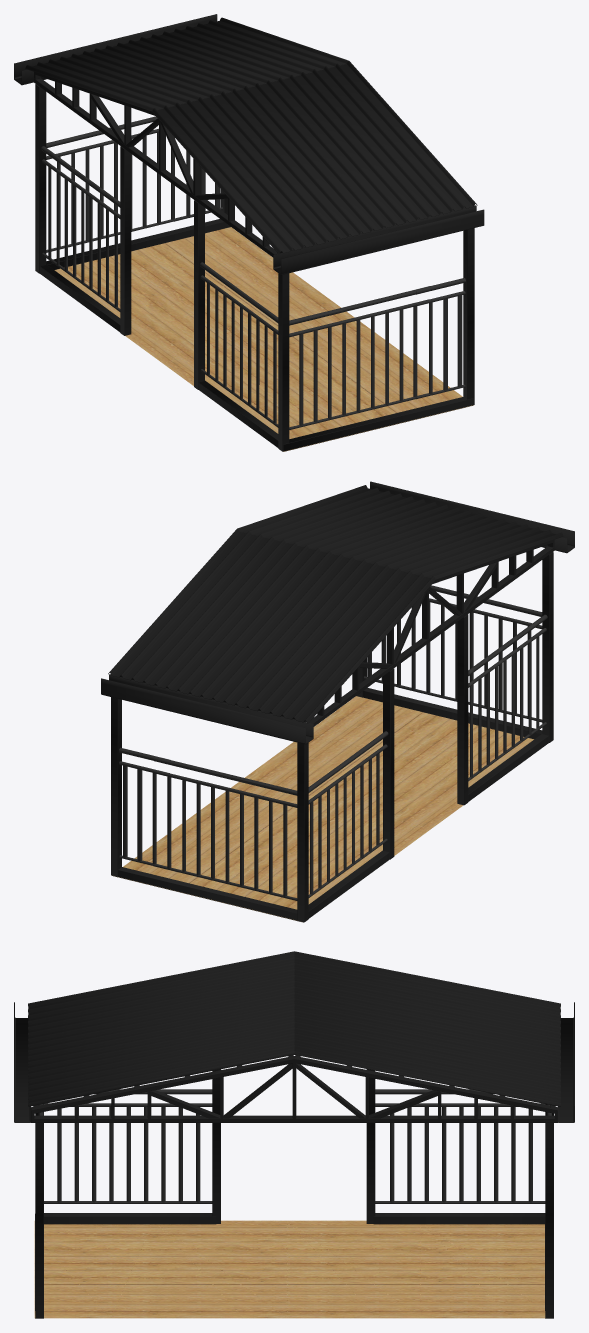
The model's file is yupeng.glb.
3 views of the same model, one above another, from view 1: azimuth 30°, elevation 25°; view 2: azimuth 150°, elevation 25°; view 3: azimuth 270°, elevation 25° (orthographic). The views are drawn at different scales.
Visible parts, largest first — view 1: yupeng_wuding, yupeng_diban, hulan_left, hulan_right, hulan_left_before, hulan_right_before, yupeng_gujia3, yupeng_gujia4, yupeng_gujia6, yupeng_gujia4.001, yupeng_gujia5; view 2: yupeng_wuding, yupeng_diban, hulan_right, hulan_left, hulan_right_before, hulan_left_before, yupeng_gujia3, yupeng_gujia4, yupeng_gujia5, yupeng_gujia6, yupeng_gujia4.001; view 3: yupeng_wuding, yupeng_diban, yupeng_gujia2, hulan_left_before, hulan_right_before, yupeng_gujia4.001, yupeng_gujia6, yupeng_gujia5.
Boxes of the visible parts, box(x1,y1,x2,y2) form: yupeng_wuding: box(14, 14, 484, 274); yupeng_diban: box(54, 227, 473, 451); hulan_left: box(283, 278, 473, 451); hulan_right: box(46, 116, 230, 269); hulan_left_before: box(40, 146, 120, 332); hulan_right_before: box(198, 262, 278, 447); yupeng_gujia3: box(34, 72, 282, 257); yupeng_gujia4: box(35, 84, 289, 451); yupeng_gujia6: box(120, 146, 131, 335); yupeng_gujia4.001: box(220, 189, 474, 404); yupeng_gujia5: box(194, 200, 204, 389); yupeng_wuding: box(101, 481, 574, 744); yupeng_diban: box(114, 696, 533, 920); hulan_right: box(112, 747, 303, 922); hulan_left: box(363, 585, 542, 739); hulan_right_before: box(468, 614, 548, 801); hulan_left_before: box(308, 731, 389, 918); yupeng_gujia3: box(304, 539, 554, 726); yupeng_gujia4: box(297, 552, 553, 922); yupeng_gujia5: box(457, 614, 468, 805); yupeng_gujia6: box(383, 668, 394, 859); yupeng_gujia4.001: box(111, 658, 366, 876); yupeng_wuding: box(14, 951, 574, 1122); yupeng_diban: box(34, 1220, 545, 1318); yupeng_gujia2: box(31, 1056, 557, 1122); hulan_left_before: box(373, 1089, 545, 1224); hulan_right_before: box(44, 1089, 216, 1224); yupeng_gujia4.001: box(35, 1123, 553, 1318); yupeng_gujia6: box(366, 1069, 375, 1223); yupeng_gujia5: box(212, 1069, 220, 1223).
Bounding box in the file's own units: 4.26 × 3.41 × 6.5.
9 materials, 1 textured.
